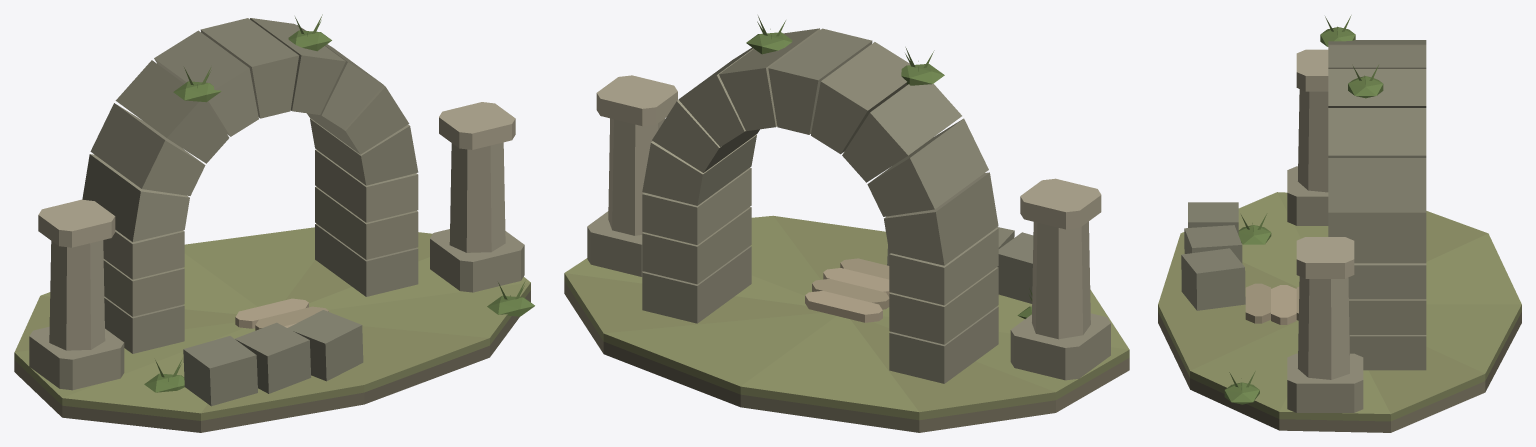
The picture shows the model from 3 angles, left to right: view 1: azimuth 30°, elevation 25°; view 2: azimuth 150°, elevation 25°; view 3: azimuth 270°, elevation 25°; orthographic projection. The views are drawn at different scales.
Visible parts, largest first — view 1: S13_石拱遗迹; view 2: S13_石拱遗迹; view 3: S13_石拱遗迹.
Boxes of the visible parts, x1,y1,x2,y2 form: S13_石拱遗迹: (14,14,534,432); S13_石拱遗迹: (564,16,1129,432); S13_石拱遗迹: (1158,15,1521,432).
Size of the model in its own units: 4.55 by 2.71 by 3.15.
